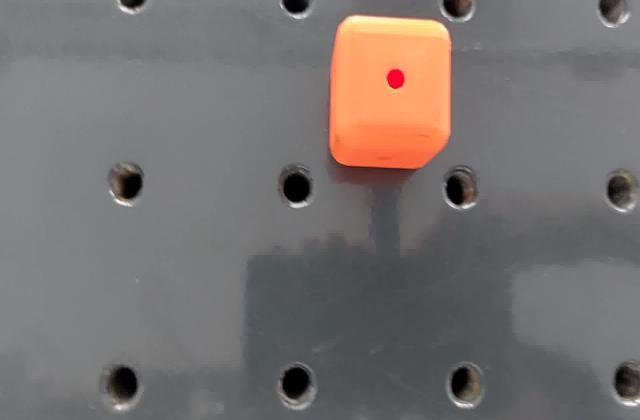cube: (324, 12, 454, 176)
